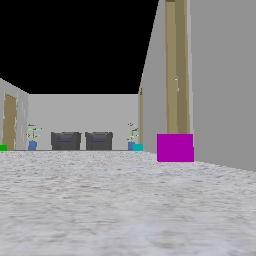fotoliu: (51, 132, 79, 149), (85, 132, 111, 149)
mov: (157, 134, 193, 161)
